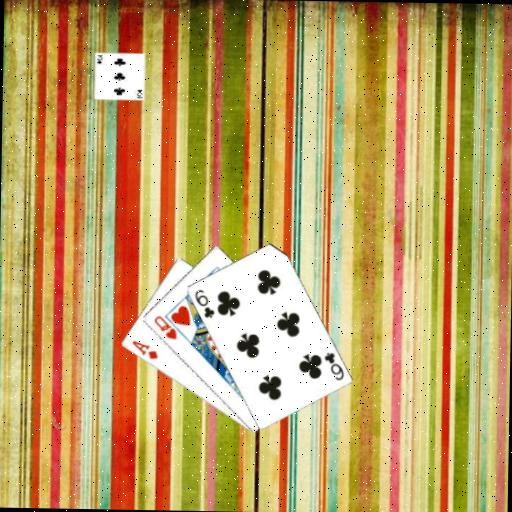6C: (191, 286, 217, 319), (321, 349, 346, 382)
AD: (129, 337, 160, 361)
QH: (151, 313, 178, 341)
